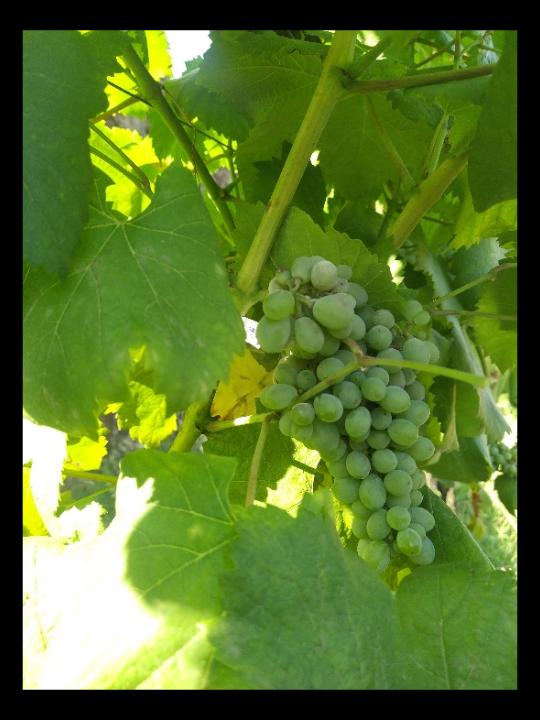grape: (255, 258, 441, 569)
